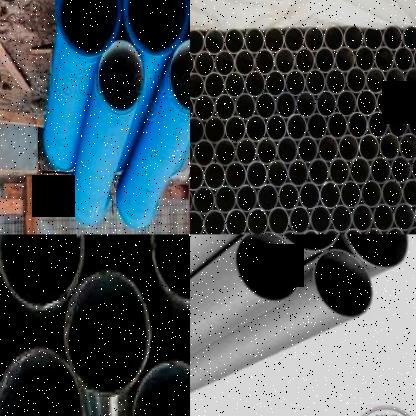pipe: (64, 271, 151, 397), (0, 234, 84, 310), (0, 347, 84, 415), (232, 234, 303, 302), (312, 248, 375, 320), (54, 0, 121, 56), (123, 0, 190, 55), (98, 40, 145, 112), (131, 360, 190, 416), (151, 235, 190, 305), (340, 234, 411, 270), (169, 39, 190, 111), (269, 235, 342, 254), (245, 160, 268, 189), (372, 203, 394, 233), (330, 204, 352, 234), (235, 185, 258, 213), (224, 162, 247, 190), (214, 185, 236, 214), (204, 162, 226, 191), (310, 205, 332, 234), (193, 139, 215, 168), (370, 156, 392, 185), (360, 180, 382, 209), (328, 157, 350, 186), (193, 186, 215, 215), (256, 184, 278, 212), (288, 206, 310, 234), (214, 139, 236, 167), (267, 206, 289, 234), (298, 182, 320, 210), (277, 183, 299, 211), (264, 70, 286, 98), (309, 158, 330, 187), (246, 207, 268, 234), (276, 137, 298, 164), (319, 182, 341, 209), (204, 117, 226, 144), (284, 70, 306, 97), (304, 69, 326, 96), (267, 160, 288, 188), (288, 159, 309, 187), (340, 181, 361, 209), (358, 134, 379, 162), (390, 156, 411, 184), (224, 71, 245, 99), (316, 90, 337, 118), (255, 92, 276, 120), (274, 48, 295, 76), (356, 89, 377, 117), (394, 203, 414, 232), (318, 135, 338, 164), (382, 179, 402, 208), (225, 208, 247, 234), (225, 116, 246, 143), (256, 138, 277, 165), (338, 135, 359, 162), (214, 94, 235, 121), (306, 113, 327, 140), (347, 112, 368, 139), (204, 72, 225, 99), (254, 49, 275, 76), (214, 50, 235, 77), (224, 28, 245, 55), (334, 46, 355, 73), (294, 47, 315, 74), (379, 134, 400, 161), (336, 90, 357, 117), (352, 204, 372, 232), (298, 136, 318, 164), (296, 91, 316, 119), (368, 111, 388, 139), (326, 68, 346, 96), (236, 138, 256, 166), (246, 115, 266, 143), (366, 67, 386, 95), (350, 157, 370, 185), (203, 209, 225, 234), (235, 94, 256, 120), (327, 113, 348, 139), (194, 95, 215, 121), (234, 50, 255, 76), (194, 51, 215, 77), (376, 90, 397, 116), (286, 115, 307, 141), (266, 115, 286, 142), (276, 92, 296, 119), (245, 71, 265, 98), (344, 25, 364, 52), (304, 26, 324, 53), (314, 47, 334, 74), (394, 46, 414, 73), (383, 25, 403, 52), (388, 111, 408, 138), (264, 27, 284, 53), (284, 27, 304, 53), (204, 29, 224, 55), (324, 26, 344, 52), (386, 68, 406, 94), (355, 46, 375, 72), (244, 28, 264, 54), (346, 68, 366, 94), (396, 89, 416, 115), (375, 46, 394, 73), (398, 133, 416, 161), (364, 26, 384, 51), (402, 178, 416, 207), (190, 72, 205, 99), (401, 25, 416, 52), (190, 163, 204, 191), (190, 117, 204, 144), (190, 30, 204, 56), (190, 210, 204, 235), (404, 68, 416, 94), (406, 111, 416, 137), (410, 155, 416, 182), (364, 227, 386, 234), (384, 227, 405, 234), (342, 228, 363, 234), (190, 95, 194, 123), (190, 51, 194, 77), (413, 202, 416, 230), (413, 46, 416, 72)
